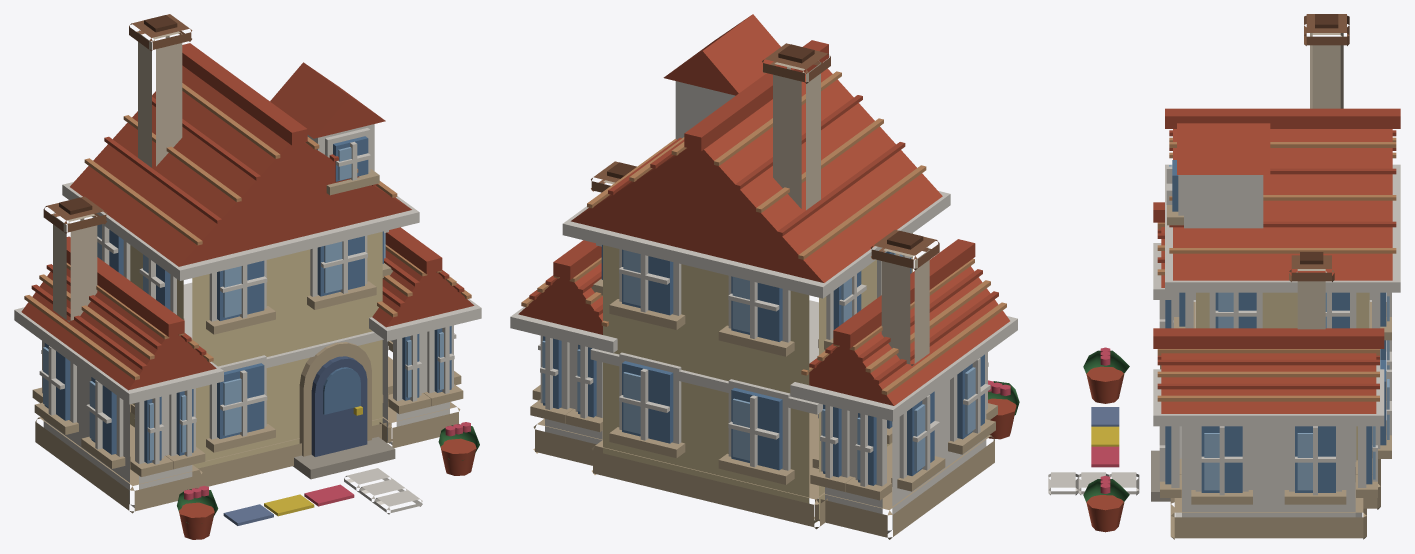
Rendered from school.glb.
3 renders of one model, left to right at view 1: azimuth 30°, elevation 25°; view 2: azimuth 150°, elevation 25°; view 3: azimuth 270°, elevation 25°, orthographic. The views are drawn at different scales.
Visible parts, largest first — view 1: school; view 2: school; view 3: school.
Boxes of the visible parts, left/top/right/bottom form: school: left=14, top=14, right=481, bottom=539; school: left=510, top=14, right=1019, bottom=539; school: left=1048, top=14, right=1400, bottom=539.
Size of the model in its own units: 0.86 by 0.9669 by 0.7421.
